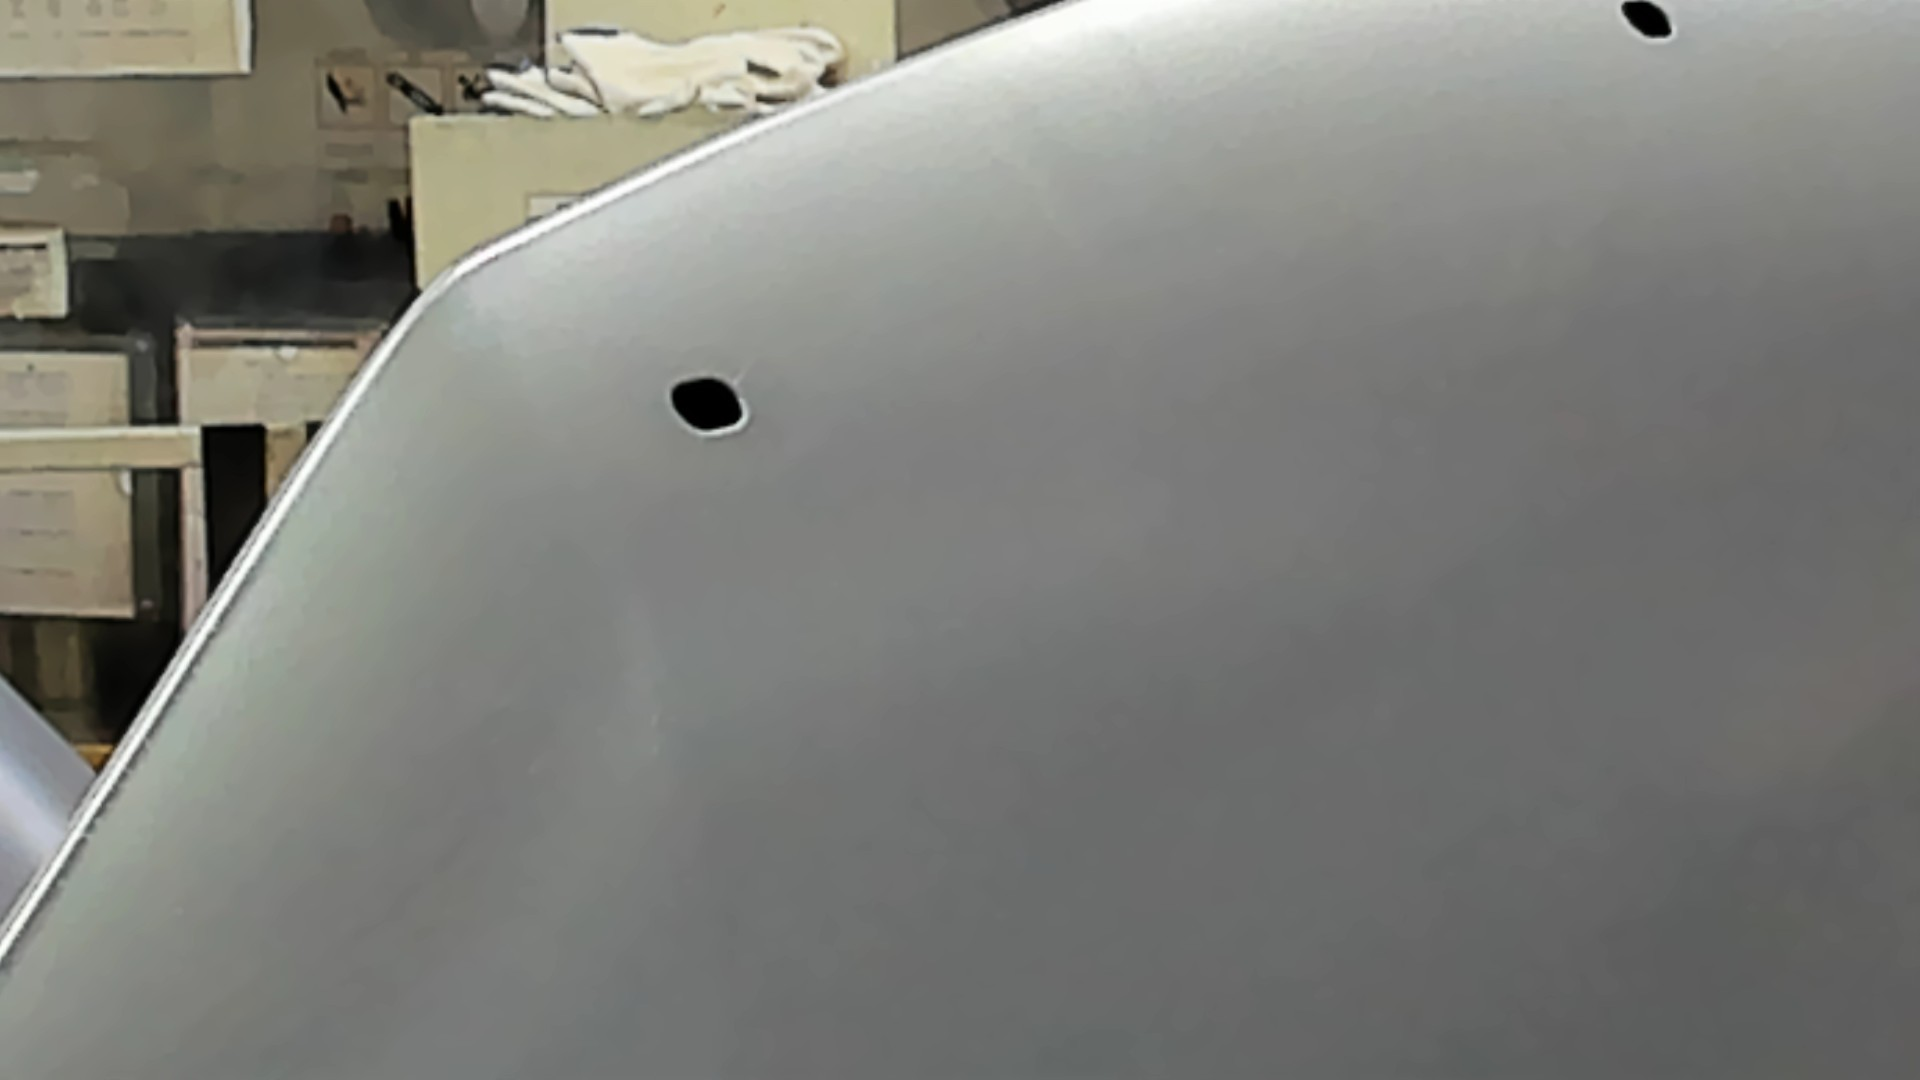amorfo: (666, 369, 756, 440), (1615, 1, 1679, 44)
